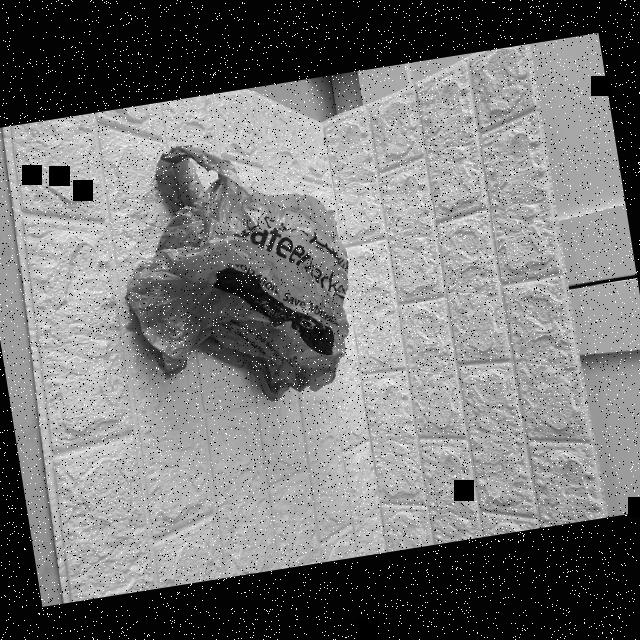plastic_bag: (102, 120, 374, 418)
